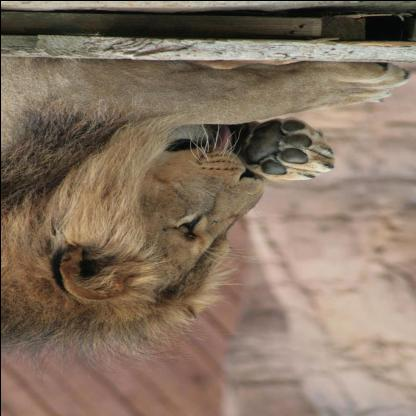lion: (33, 106, 277, 328)
